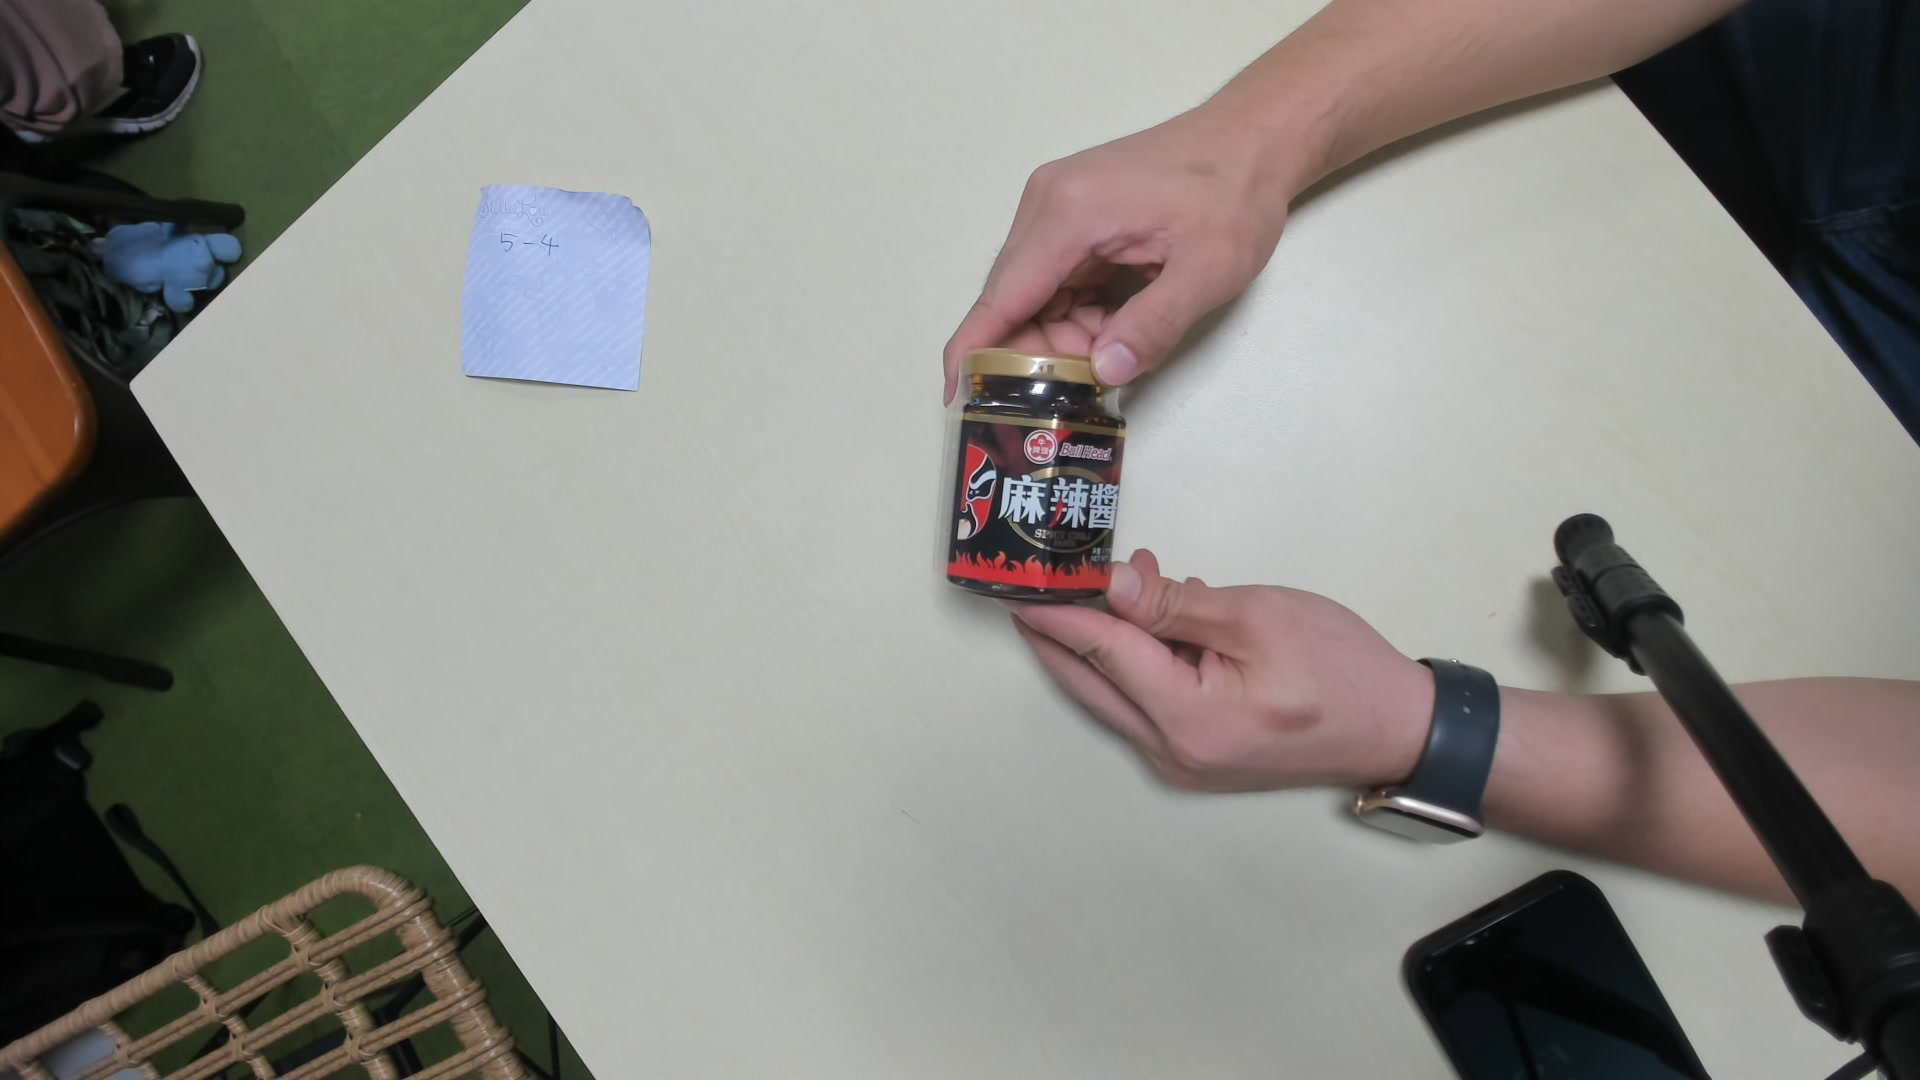OtherSauceDressing_100-199g_NonHalal_NonHealthy: (938, 347, 1124, 608)
